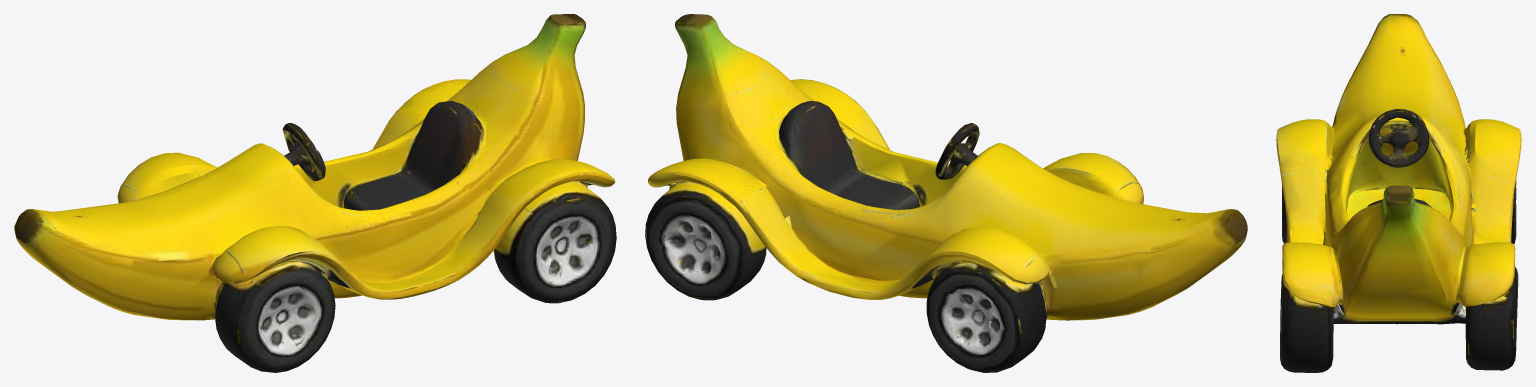
File: auto-banana.glb
3 renders of one model, left to right at view 1: azimuth 30°, elevation 25°; view 2: azimuth 150°, elevation 25°; view 3: azimuth 270°, elevation 25°, orthographic. The views are drawn at different scales.
Parts seen in each view (by area): view 1: Object_5; view 2: Object_5; view 3: Object_5.
Boxes of the visible parts, box(x1,y1,x2,y2) form: Object_5: box(14, 14, 616, 372); Object_5: box(645, 14, 1247, 372); Object_5: box(1276, 14, 1521, 372).
Bounding box in the file's own units: 1.9 × 0.7402 × 0.7932.
Materials: 1 (1 with a texture image).
